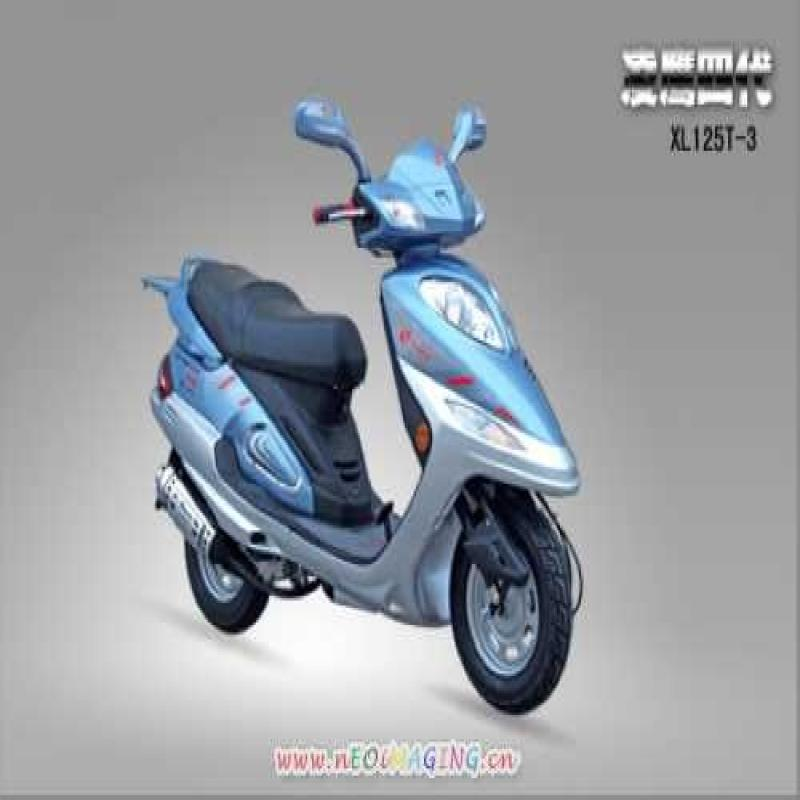bike: (128, 79, 575, 704)
